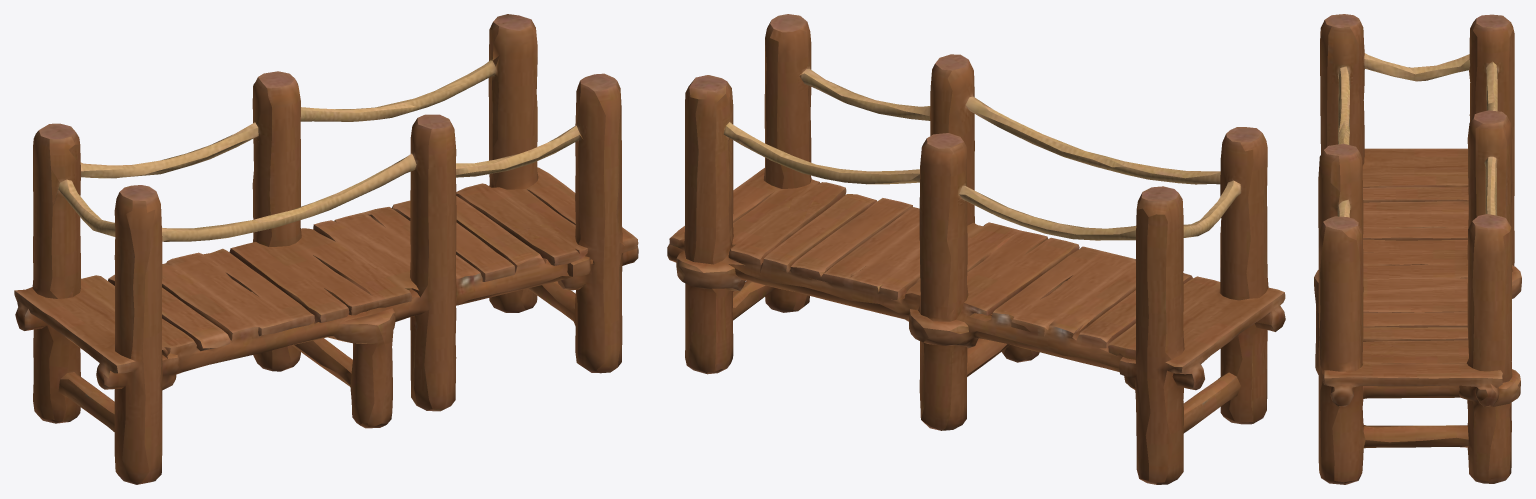
Rendered from a-short-wooden-swamp-boardwalk-s-0aebfa.glb.
3 views of the same model, side by side, from view 1: azimuth 30°, elevation 25°; view 2: azimuth 150°, elevation 25°; view 3: azimuth 270°, elevation 25° (orthographic). The views are drawn at different scales.
Parts seen in each view (by area): view 1: geometry_0; view 2: geometry_0; view 3: geometry_0.
Boxes of the visible parts, <box> form: geometry_0: <box>14,14,638,484</box>; geometry_0: <box>667,14,1285,484</box>; geometry_0: <box>1314,14,1521,484</box>.
Size of the model in its own units: 1 by 0.5095 by 0.374.
1 material, 1 textured.
